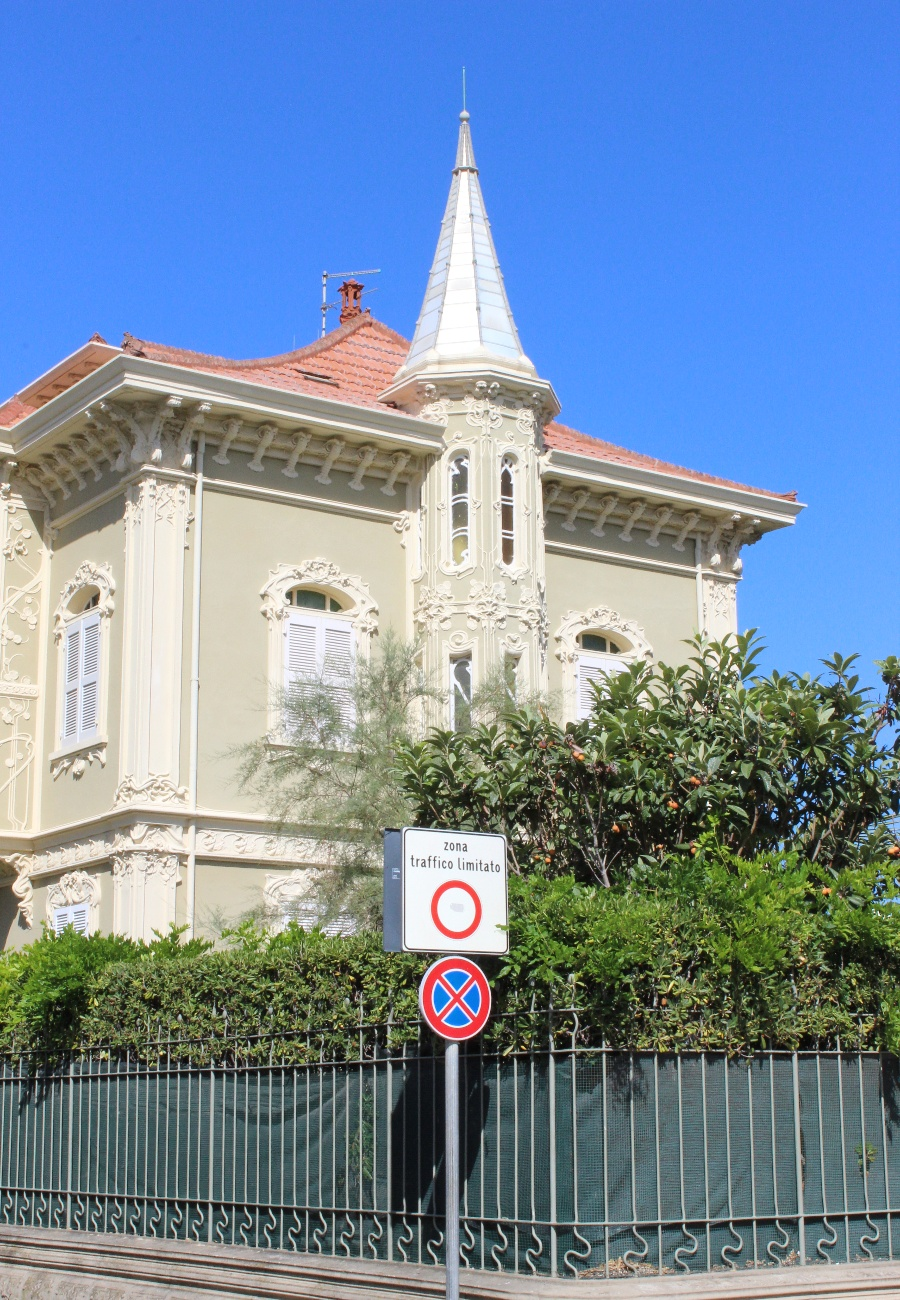Villino Ruggeri: (23, 108, 809, 1058)
